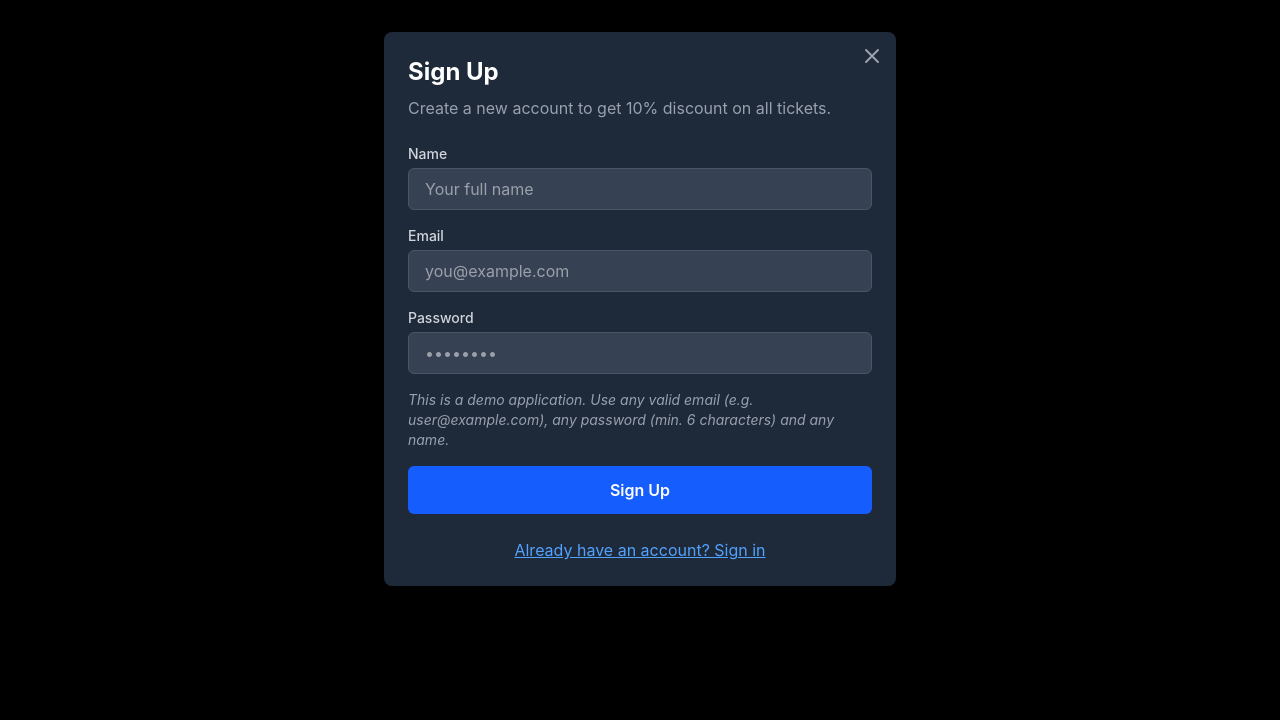
it: AuthModals › shows error message when signUp fails
In the field labelled "Name": (640, 189) [408,168,872,210], type "John"
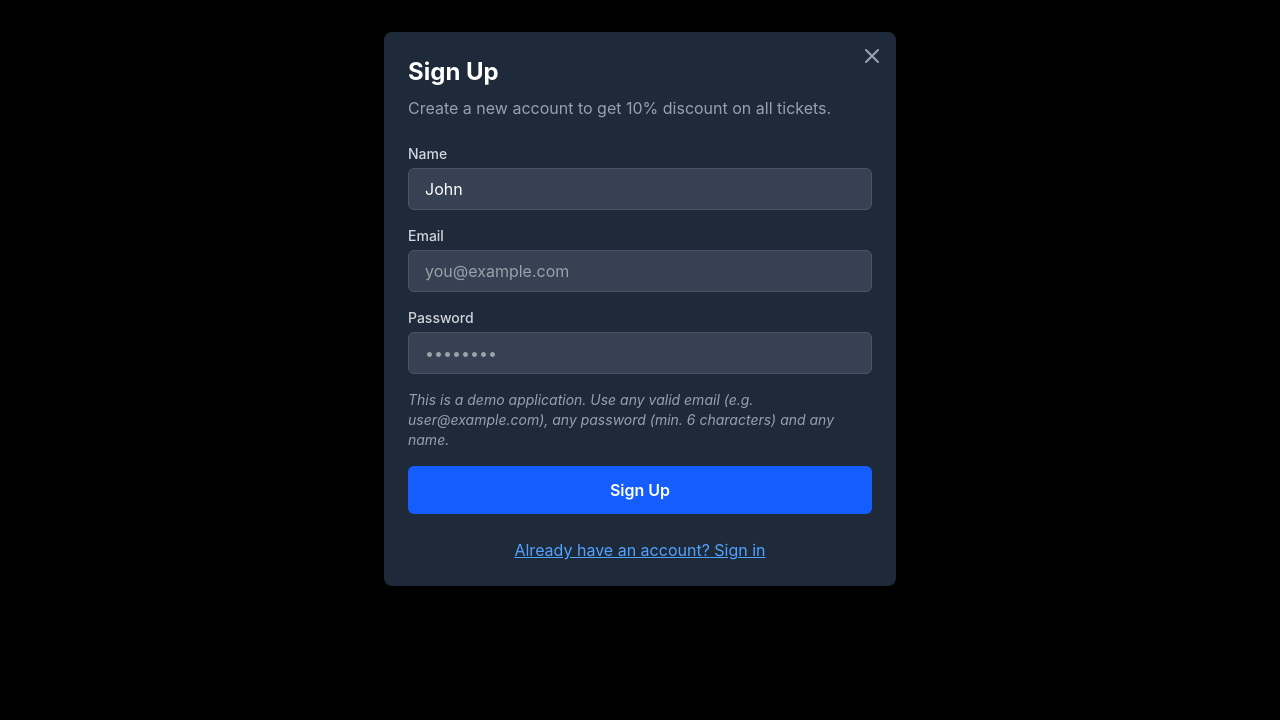
In the field labelled "Email": (640, 271) [408,250,872,292], type "john@example.com"
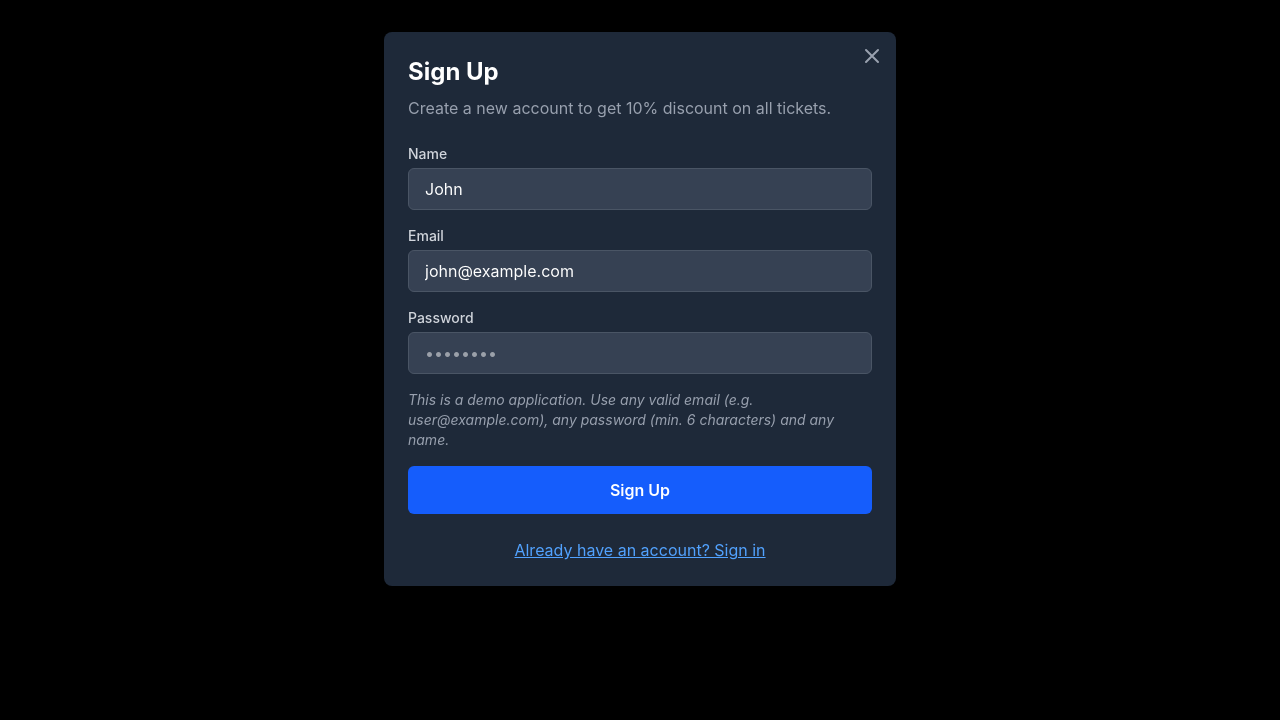
In the password field labelled "Password": (640, 353) [408,332,872,374], type "pass"
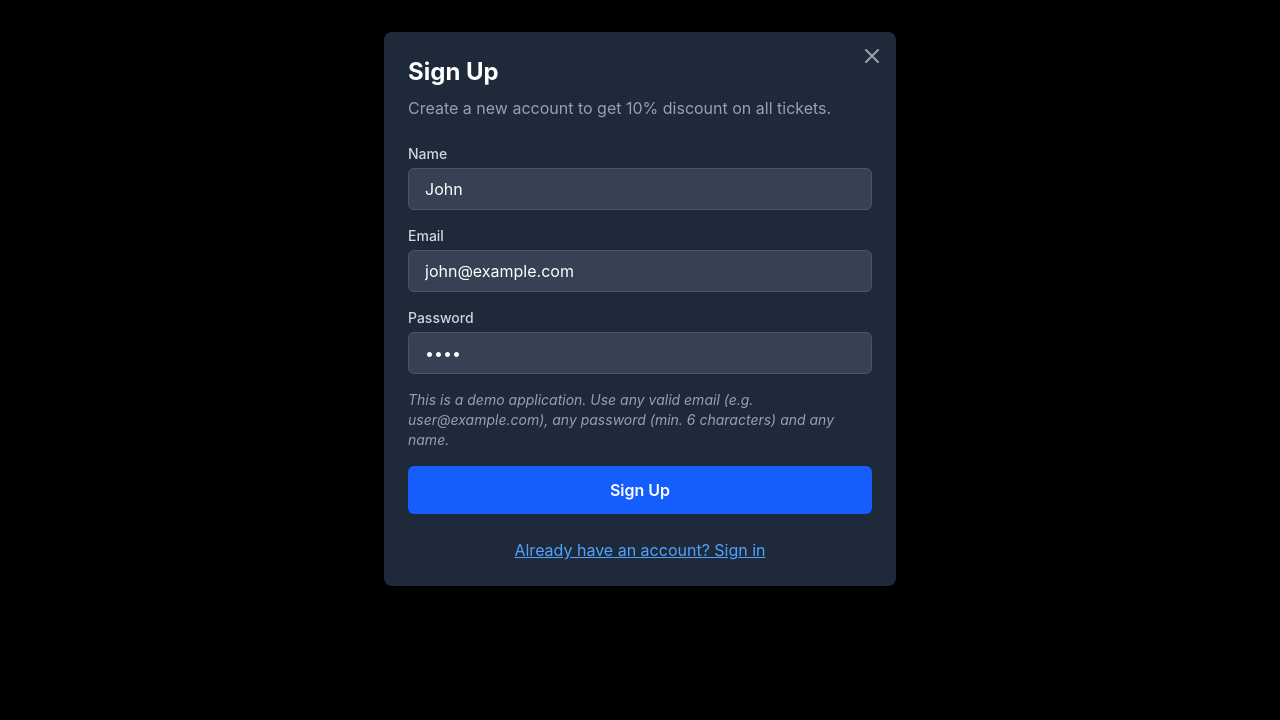
Click the button "Sign Up": (640, 490) [408,466,872,514]
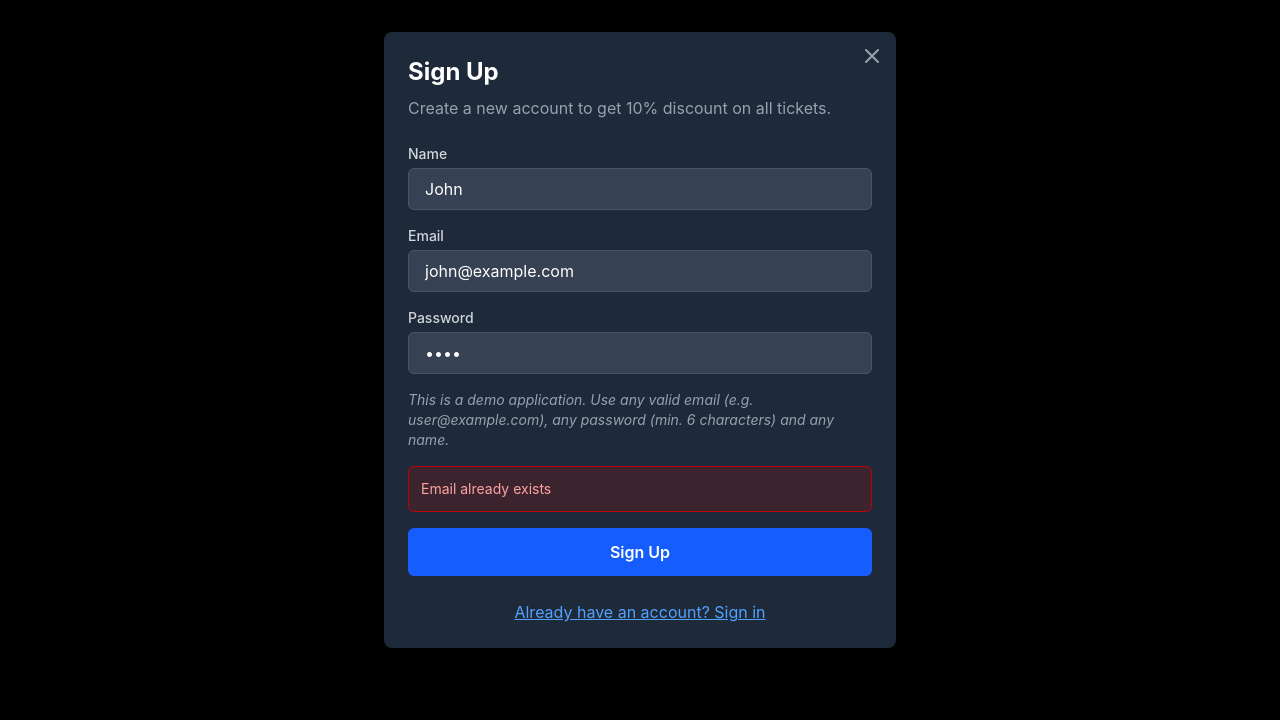
Expected: the text "Email already exists" is shown, [408,466,872,512]
